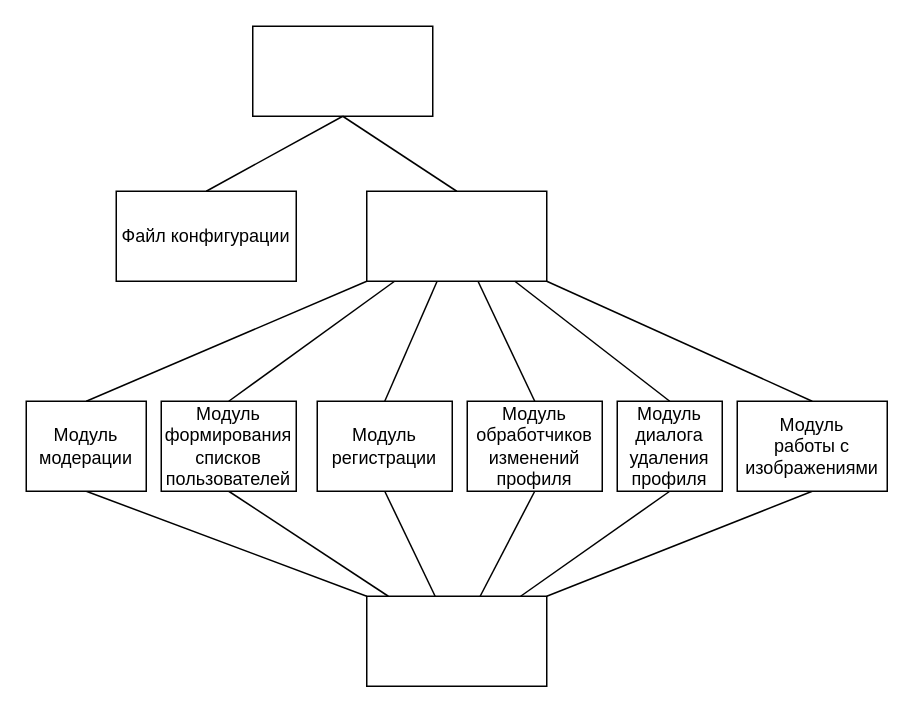
Image size: 914x713. Some labels were removed from this diagram. Each missing label, with the centre of its shape:
"Модуль взаимодействия с БД" goes at point 456,640.
"Модуль главного меню" goes at point 456,235.
"Чат-бот" goes at point 342,70.
